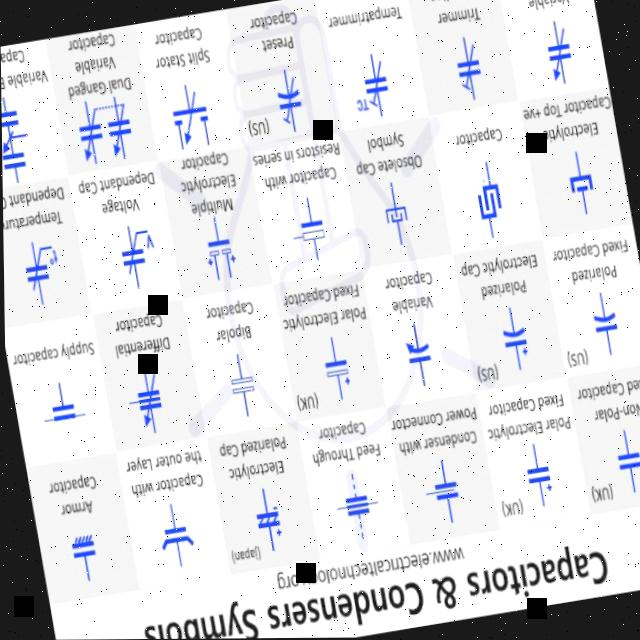capacitor: (141, 494, 208, 574), (233, 481, 296, 556), (324, 470, 389, 541), (341, 45, 399, 123), (7, 234, 68, 307), (439, 29, 497, 105), (389, 314, 445, 388), (369, 180, 423, 252), (161, 81, 215, 152), (37, 378, 91, 446), (126, 367, 175, 440), (108, 223, 163, 287), (584, 287, 632, 359), (266, 61, 312, 135), (64, 100, 111, 172), (64, 525, 114, 592), (494, 306, 543, 373), (469, 163, 514, 235), (287, 197, 337, 261), (536, 16, 581, 87), (99, 98, 140, 168), (198, 217, 240, 281), (224, 352, 262, 421), (563, 152, 600, 221), (315, 346, 359, 404), (513, 445, 558, 501), (421, 469, 469, 521), (608, 431, 640, 487), (1, 101, 29, 138), (2, 140, 28, 178)
